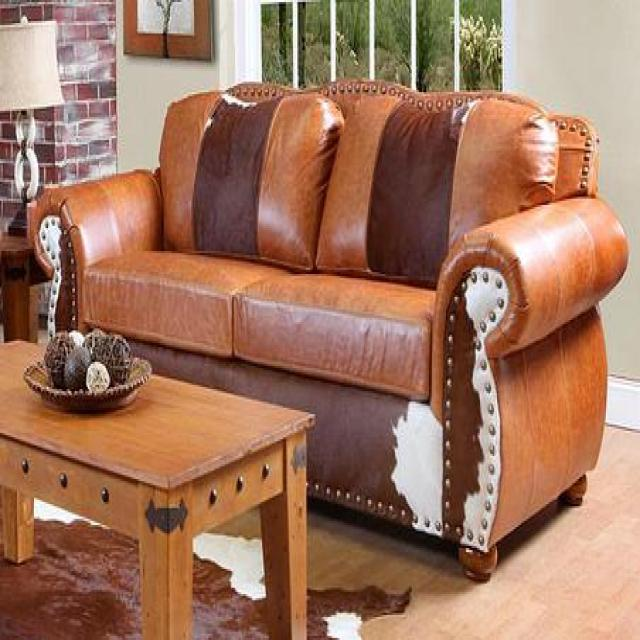sofa: (29, 80, 630, 582)
